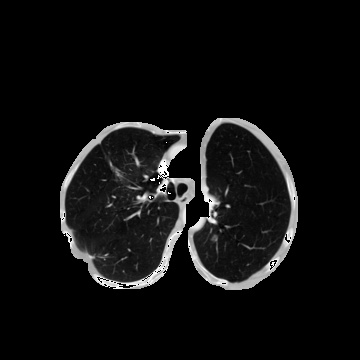PN: (210, 234, 218, 242)
